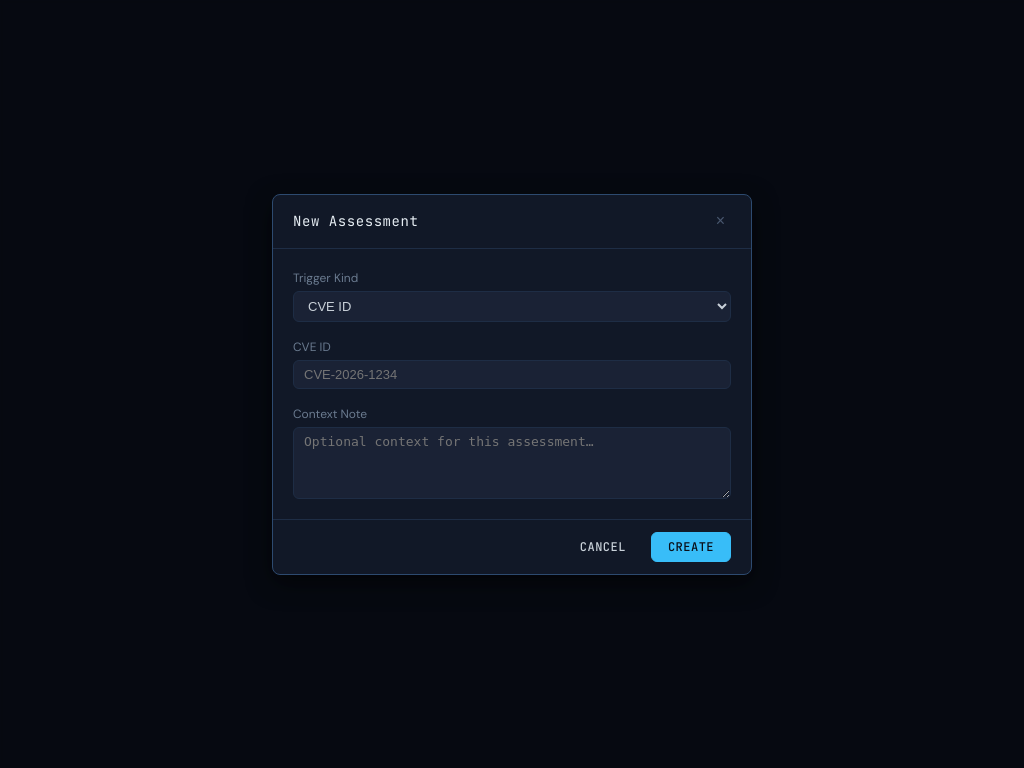
Test: CreateAssessmentModal › shows a useful error when the CVE is not in the platform
Type "CVE-2026-9999" into the field labelled "CVE ID".
click(512, 374); type("CVE-2026-9999")  # box left=293, top=360, right=731, bottom=388
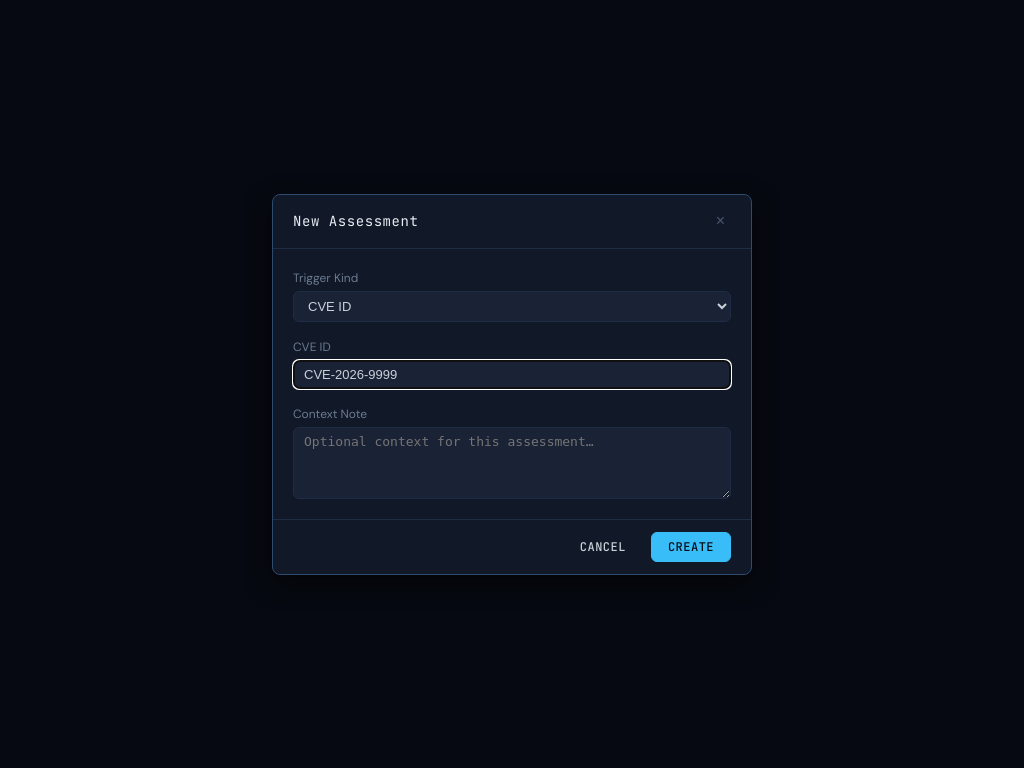
Click the button "Create".
click(691, 546)  # box left=651, top=532, right=731, bottom=562
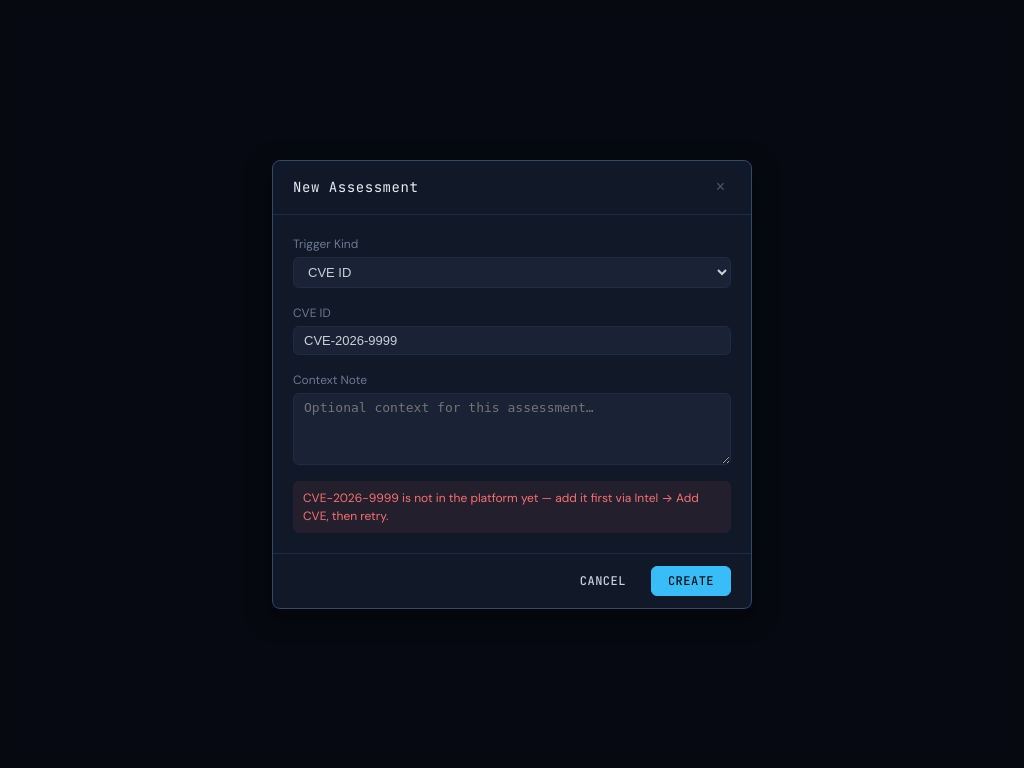
Now the text "not in the platform" is shown, box left=303, top=490, right=699, bottom=524
